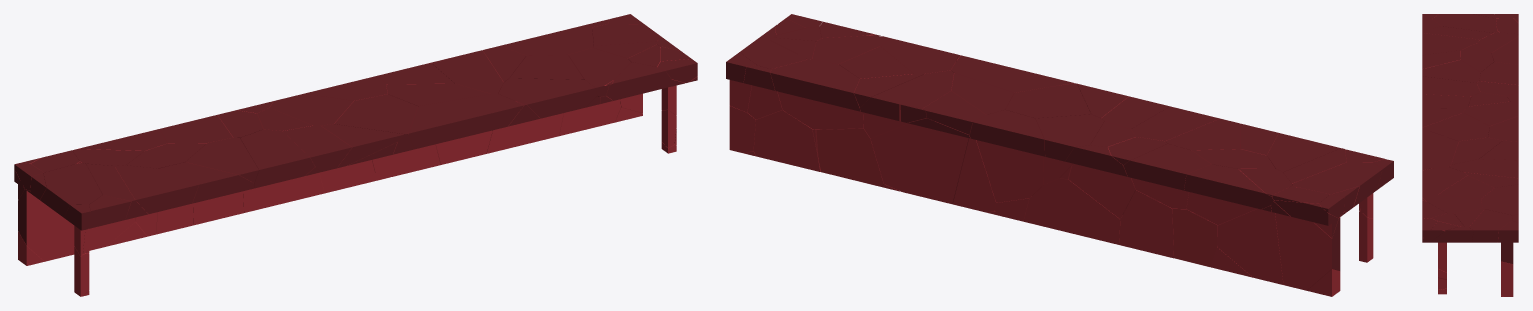
Rendered from Office Desk.fbx.
3 views of the same model, side by side, from view 1: azimuth 30°, elevation 25°; view 2: azimuth 150°, elevation 25°; view 3: azimuth 270°, elevation 25° (orthographic). The views are drawn at different scales.
Visible parts, largest first — view 1: Office Desk_cell.063, Office Desk_cell.060, Office Desk_cell.055, Office Desk_cell.056, Office Desk_cell.036, Office Desk_cell.075, Office Desk_cell.023, Office Desk_cell.084, Office Desk_cell.074, Office Desk_cell.021, Office Desk_cell.062, Office Desk_cell.082 (+34 smaller); view 2: Office Desk_cell.064, Office Desk_cell.097, Office Desk_cell.043, Office Desk_cell.062, Office Desk_cell.055, Office Desk_cell.044, Office Desk_cell.047, Office Desk_cell.038, Office Desk_cell.096, Office Desk_cell.074, Office Desk_cell.052, Office Desk_cell.002 (+39 smaller); view 3: Office Desk_cell.075, Office Desk_cell.063, Office Desk_cell.074, Office Desk_cell.009, Office Desk_cell.056, Office Desk_cell.073, Office Desk_cell.023, Office Desk_cell.043, Office Desk_cell.060, Office Desk_cell.021, Office Desk_cell.036, Office Desk_cell.030 (+29 smaller).
Part boxes in pixels (x1,y1,x2,y2): Office Desk_cell.063: (408, 94, 523, 149); Office Desk_cell.060: (498, 78, 596, 118); Office Desk_cell.055: (18, 161, 81, 261); Office Desk_cell.056: (240, 129, 315, 188); Office Desk_cell.036: (114, 165, 198, 213); Office Desk_cell.075: (334, 94, 418, 134); Office Desk_cell.023: (40, 163, 102, 217); Office Desk_cell.084: (159, 162, 254, 203); Office Desk_cell.074: (432, 50, 503, 93); Office Desk_cell.021: (186, 137, 258, 183); Office Desk_cell.062: (243, 173, 324, 212); Office Desk_cell.082: (283, 125, 351, 171); Office Desk_cell.064: (870, 118, 970, 203); Office Desk_cell.097: (969, 109, 1044, 202); Office Desk_cell.043: (770, 59, 863, 129); Office Desk_cell.062: (1023, 178, 1120, 244); Office Desk_cell.055: (1271, 185, 1346, 290); Office Desk_cell.044: (1184, 164, 1273, 224); Office Desk_cell.047: (1217, 205, 1283, 284); Office Desk_cell.038: (1123, 144, 1210, 208); Office Desk_cell.096: (1065, 145, 1135, 218); Office Desk_cell.074: (860, 70, 954, 138); Office Desk_cell.052: (816, 128, 883, 186); Office Desk_cell.002: (753, 110, 820, 171); Office Desk_cell.075: (1422, 113, 1489, 141); Office Desk_cell.063: (1422, 129, 1458, 169); Office Desk_cell.074: (1449, 159, 1518, 178); Office Desk_cell.009: (1469, 209, 1512, 242); Office Desk_cell.056: (1422, 76, 1480, 96); Office Desk_cell.073: (1463, 101, 1518, 126); Office Desk_cell.023: (1432, 14, 1497, 32); Office Desk_cell.043: (1481, 184, 1518, 218); Office Desk_cell.060: (1422, 166, 1467, 194); Office Desk_cell.021: (1422, 60, 1480, 82); Office Desk_cell.036: (1422, 33, 1479, 55); Office Desk_cell.030: (1422, 194, 1482, 213).
Size of the model in its own units: 618 by 90.12 by 117.
